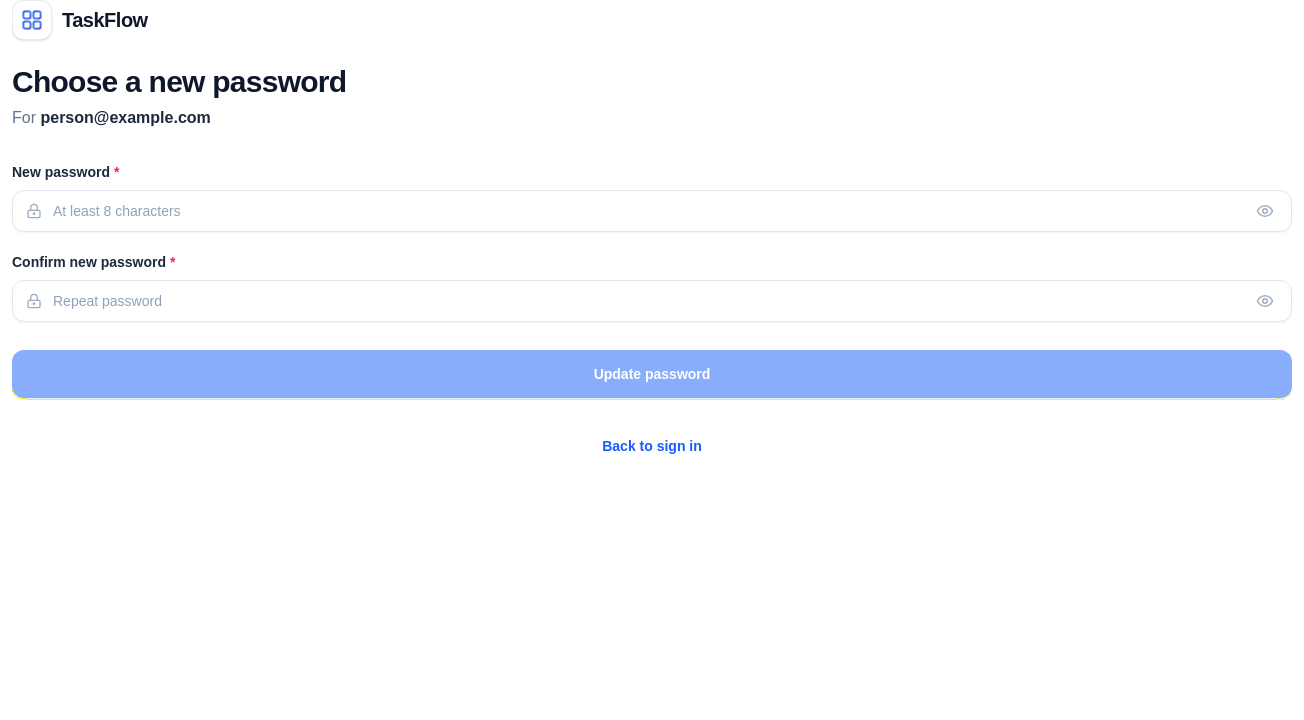
Test: shows safe reset errors for Expired link
Type "NewStrongPassword@123" into the password field with placeholder "At least 8 characters" at [652, 211], box [12, 190, 1292, 232]
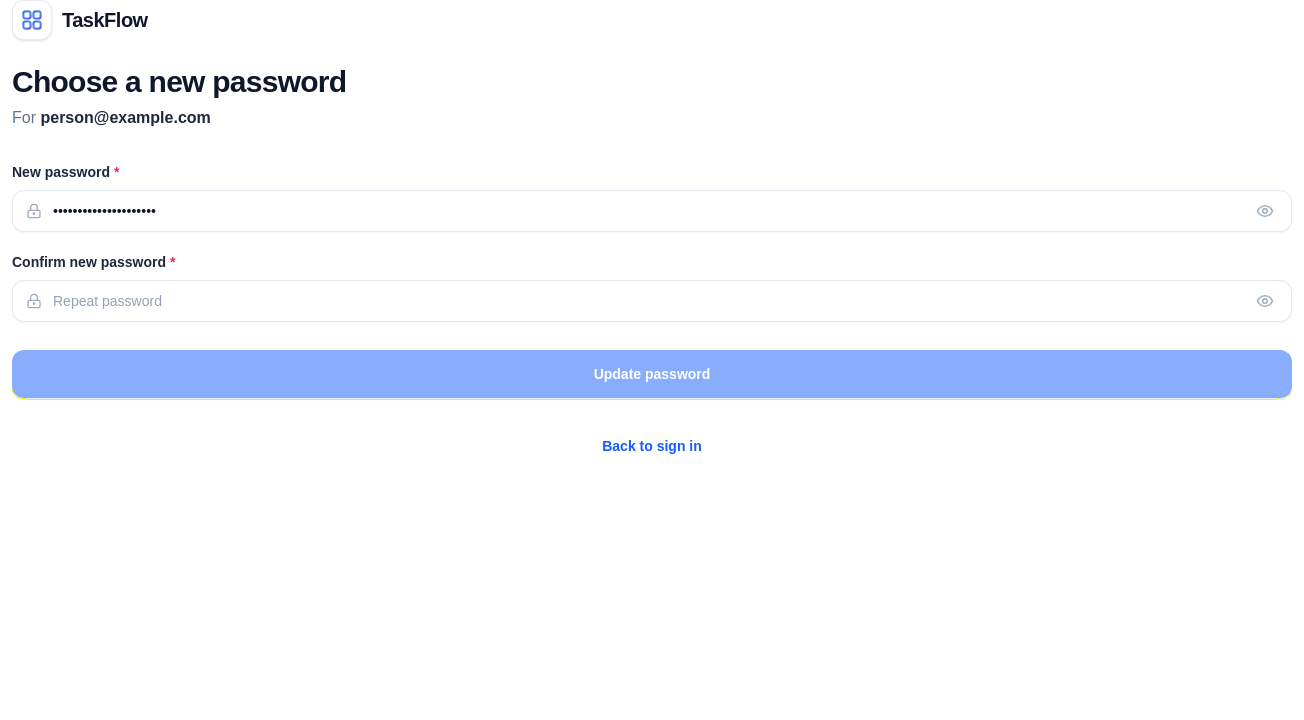
Type "NewStrongPassword@123" into the password field with placeholder "Repeat password" at [652, 301], box [12, 280, 1292, 322]
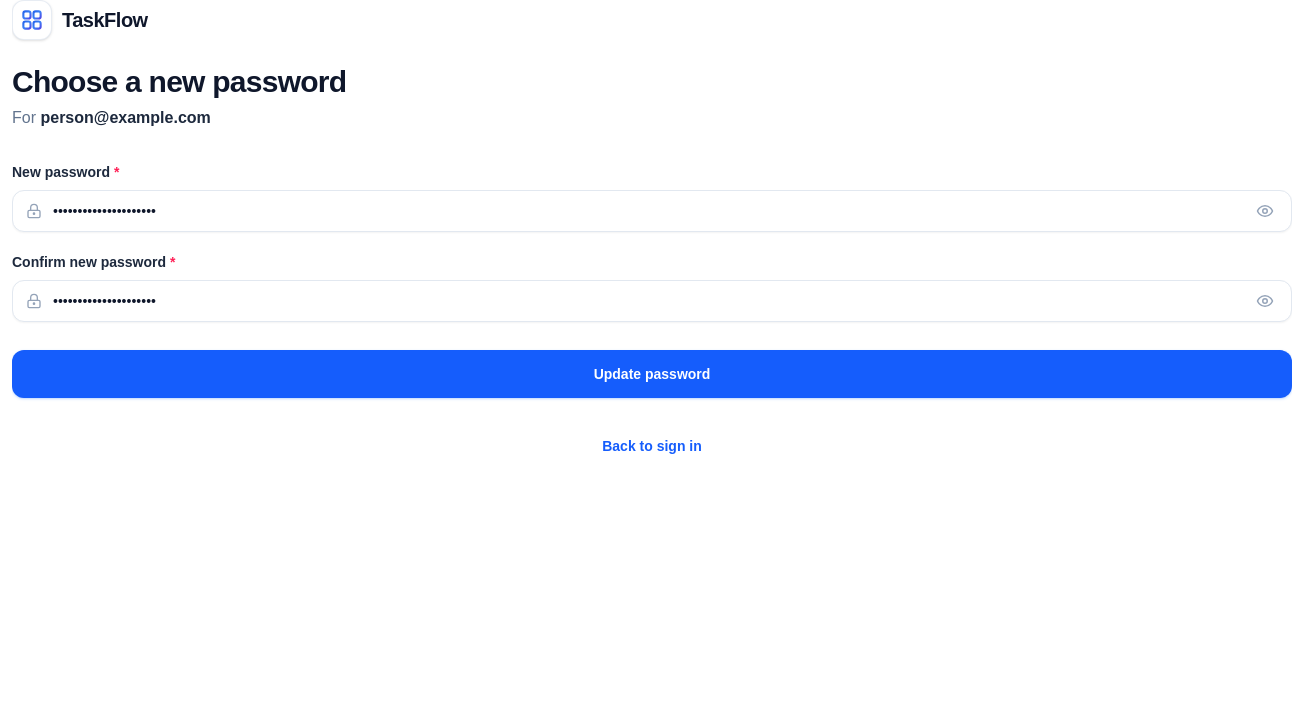
Result: the button "Update password" is enabled
Click the button "Update password" at [652, 374], box [12, 350, 1292, 398]
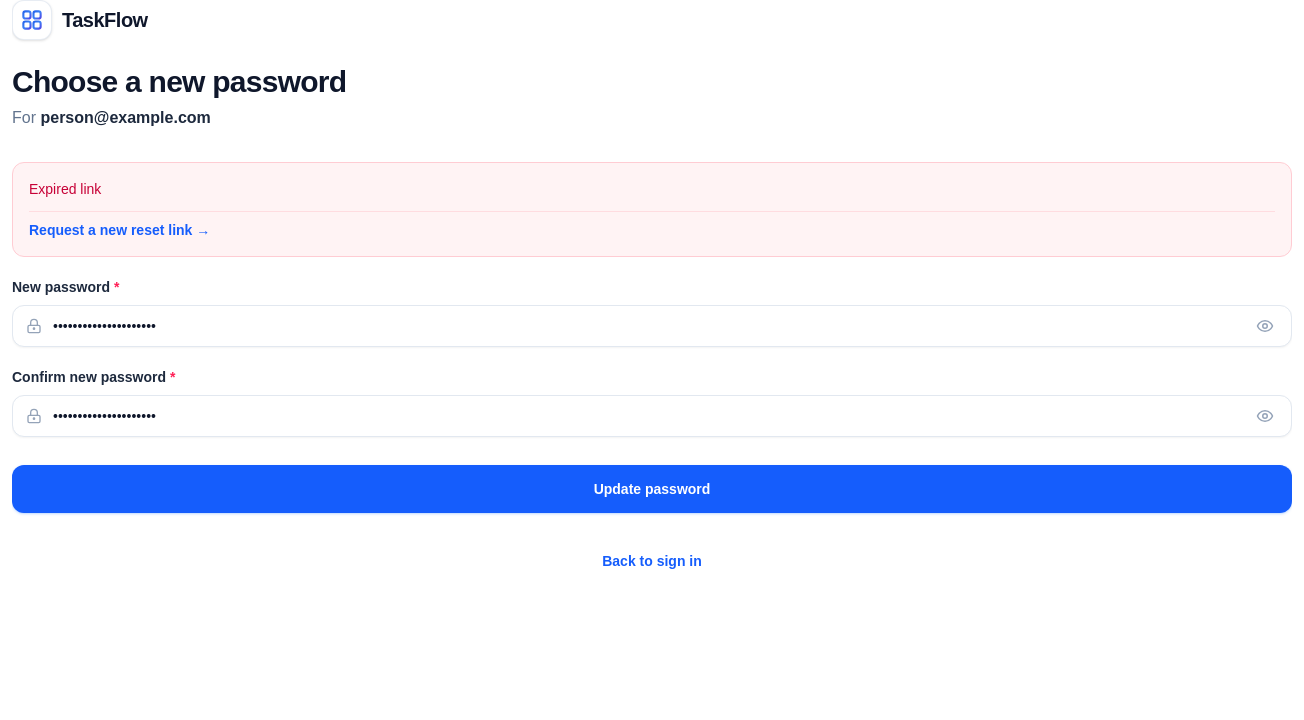
Result: the message shows "Expired link" at [29, 181, 101, 197]
Result: the link "Request a new reset link →" is shown at [29, 220, 210, 240]
